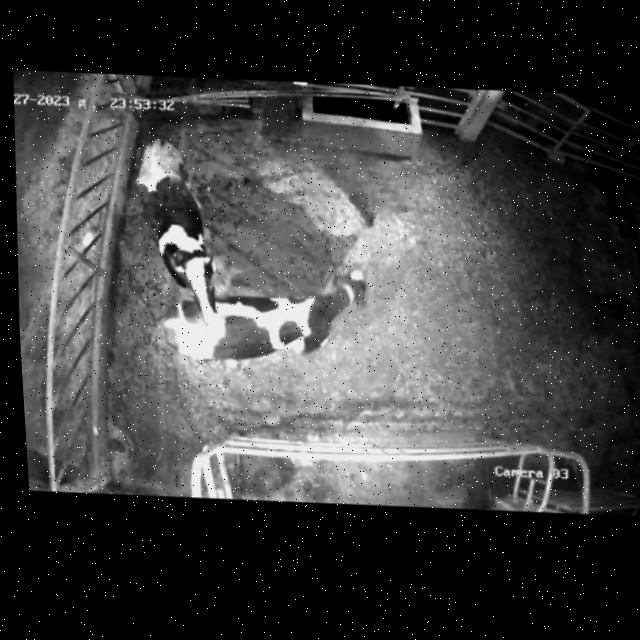propping: (164, 239, 247, 355)
stand: (145, 258, 391, 382)
